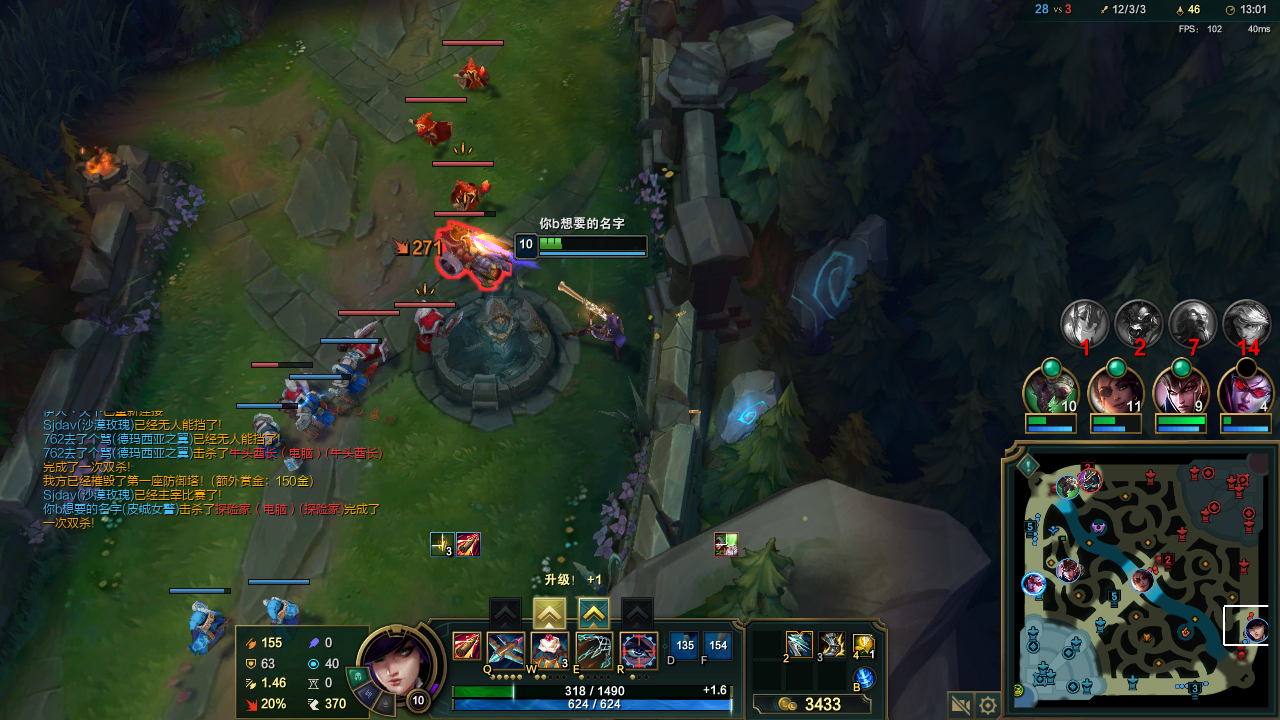DFXB: (408, 304, 461, 361), (440, 228, 497, 280), (356, 328, 386, 366), (416, 113, 453, 143), (455, 176, 488, 205), (281, 380, 307, 407), (455, 65, 489, 85)
KF: (786, 633, 807, 649)
Shenji: (584, 607, 601, 630)
Tuijianshengji: (534, 602, 563, 623)
WFXB: (246, 410, 285, 454), (332, 359, 369, 394), (294, 394, 332, 427), (186, 607, 221, 642), (265, 594, 293, 618)
